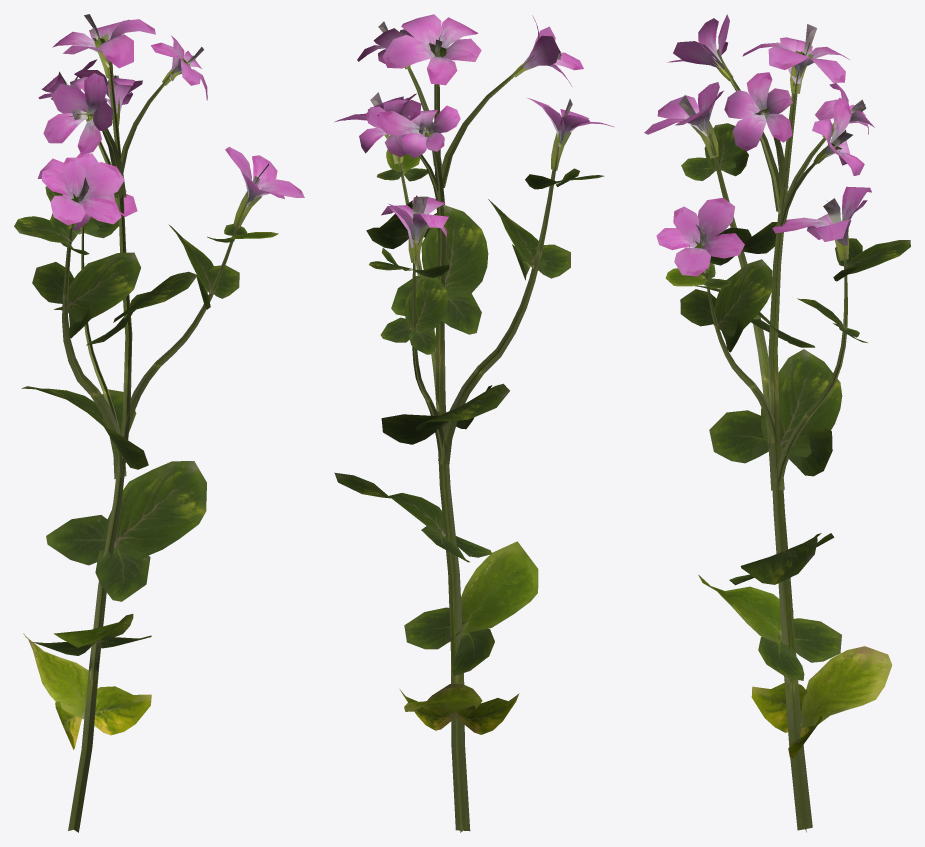
Rendered from Periwinkle_baby_short_pink.glb.
The picture shows the model from 3 angles, left to right: view 1: azimuth 30°, elevation 25°; view 2: azimuth 150°, elevation 25°; view 3: azimuth 270°, elevation 25°; orthographic projection.
Parts seen in each view (by area): view 1: _b868_Var1_LOD1; view 2: _b868_Var1_LOD1; view 3: _b868_Var1_LOD1.
Boxes of the visible parts, <box> form: _b868_Var1_LOD1: <box>14,14,304,832</box>; _b868_Var1_LOD1: <box>334,14,614,832</box>; _b868_Var1_LOD1: <box>644,14,910,832</box>.
Size of the model in its own units: 0.5832 by 1.66 by 0.4917.
1 material, 1 textured.
